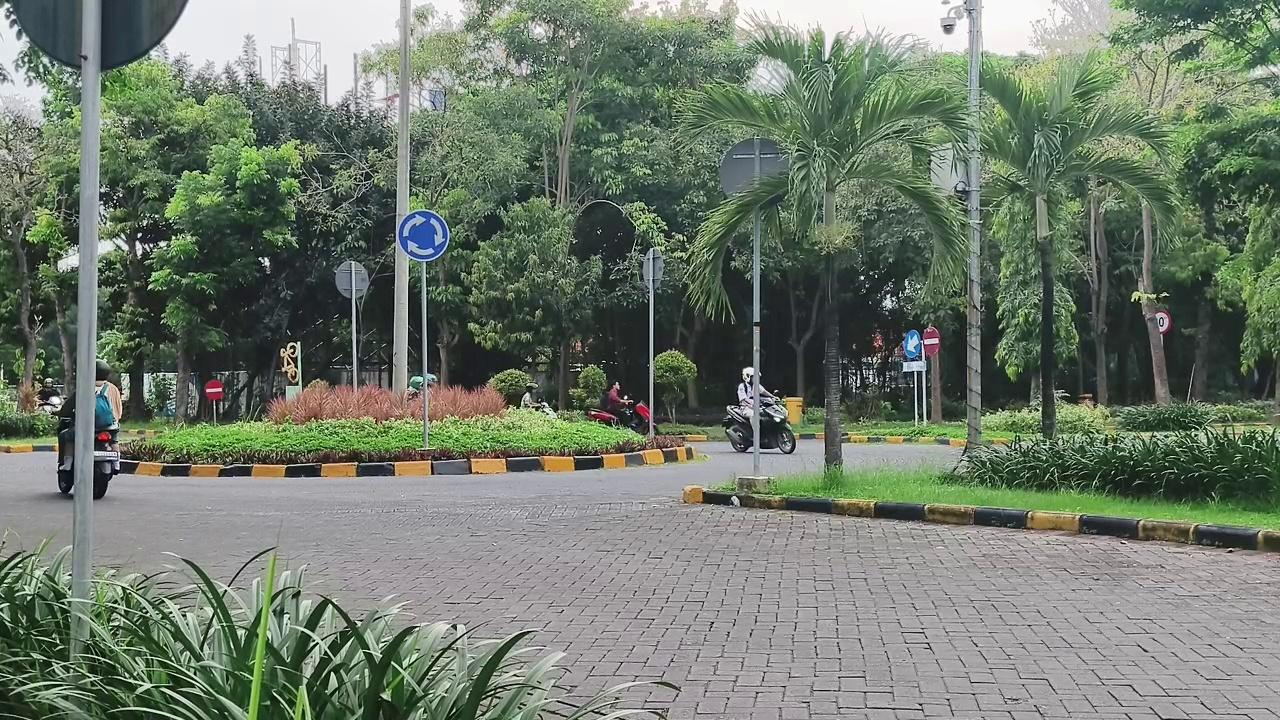Helmet: (737, 367, 755, 412)
Motor: (587, 401, 651, 434), (759, 398, 796, 454), (92, 429, 119, 499), (38, 394, 62, 414)
